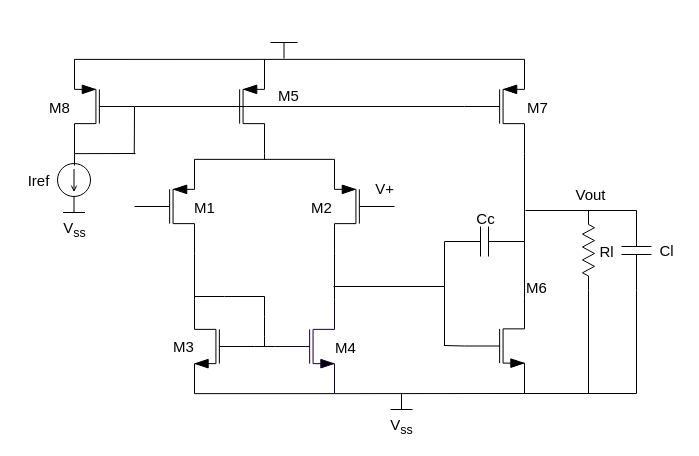
Some shapes in this 699 by 456 pixel diagram are drawn without their labels. The centre of each missing label's shape, as x and y in pixels:
V dd: the point at 284,50
V-: the point at 164,206
